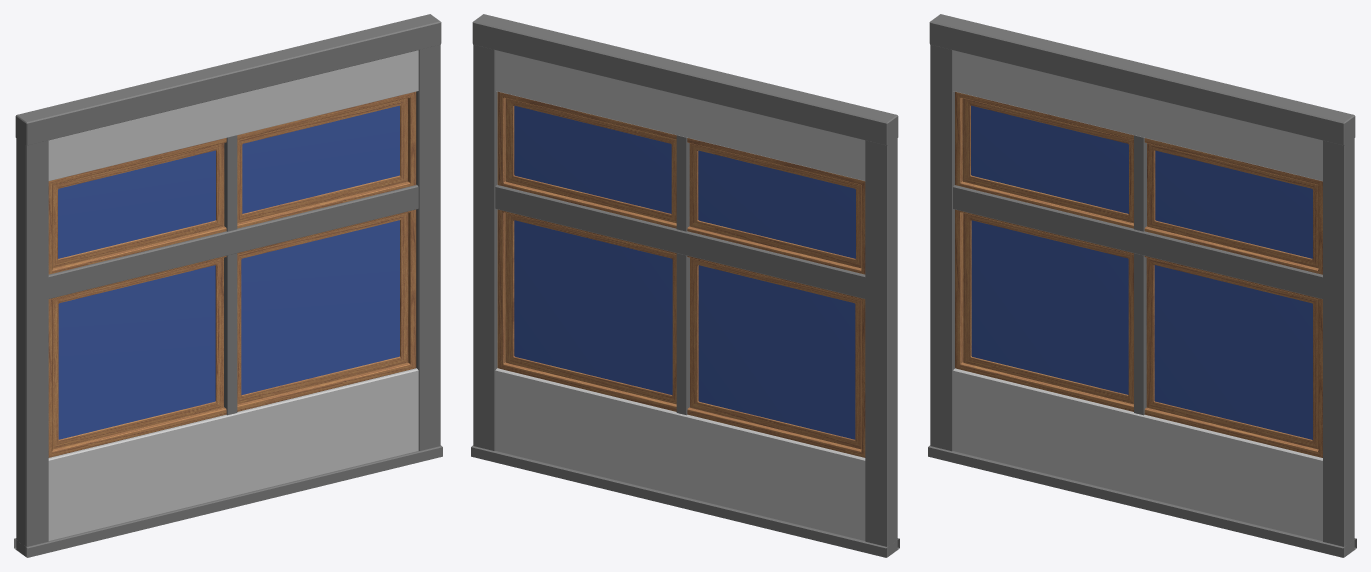
Rendered from SM_wall_windows_05.fbx.
3 renders of one model, left to right at view 1: azimuth 30°, elevation 25°; view 2: azimuth 150°, elevation 25°; view 3: azimuth 330°, elevation 25°, orthographic.
Parts seen in each view (by area): view 1: Wall_windows_018; view 2: Wall_windows_018; view 3: Wall_windows_018.
Boxes of the visible parts, bbox=[...] form: Wall_windows_018: bbox=[14, 14, 442, 557]; Wall_windows_018: bbox=[471, 14, 899, 557]; Wall_windows_018: bbox=[928, 14, 1356, 557].
Bounding box in the file's own units: 158 × 158 × 8.89.
